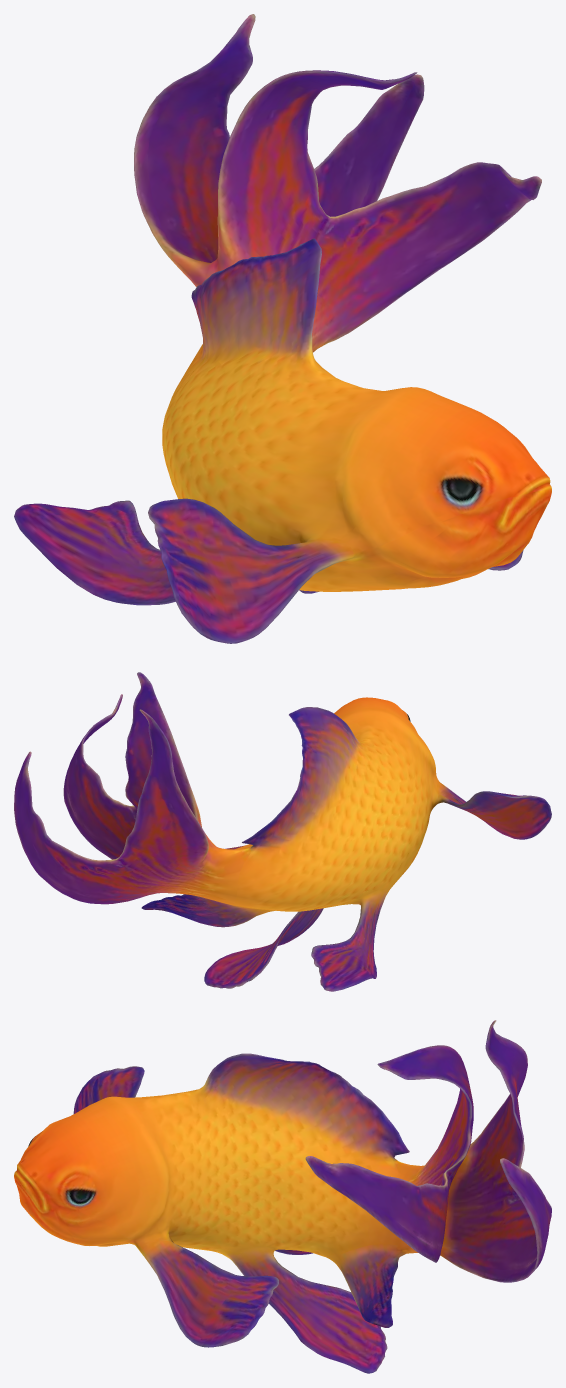
Rendered from koi.glb.
3 renders of one model, top to bottom at view 1: azimuth 30°, elevation 25°; view 2: azimuth 150°, elevation 25°; view 3: azimuth 270°, elevation 25°, orthographic. The views are drawn at different scales.
Parts seen in each view (by area): view 1: G_Fish67_G_Fish_tex_0; view 2: G_Fish67_G_Fish_tex_0; view 3: G_Fish67_G_Fish_tex_0.
Boxes of the visible parts, left/top/right/bottom form: G_Fish67_G_Fish_tex_0: left=14, top=14, right=551, bottom=643; G_Fish67_G_Fish_tex_0: left=14, top=672, right=551, bottom=991; G_Fish67_G_Fish_tex_0: left=14, top=1020, right=551, bottom=1373.
Size of the model in its own units: 6.41 by 5.42 by 7.36.
Materials: 1 (1 with a texture image).
